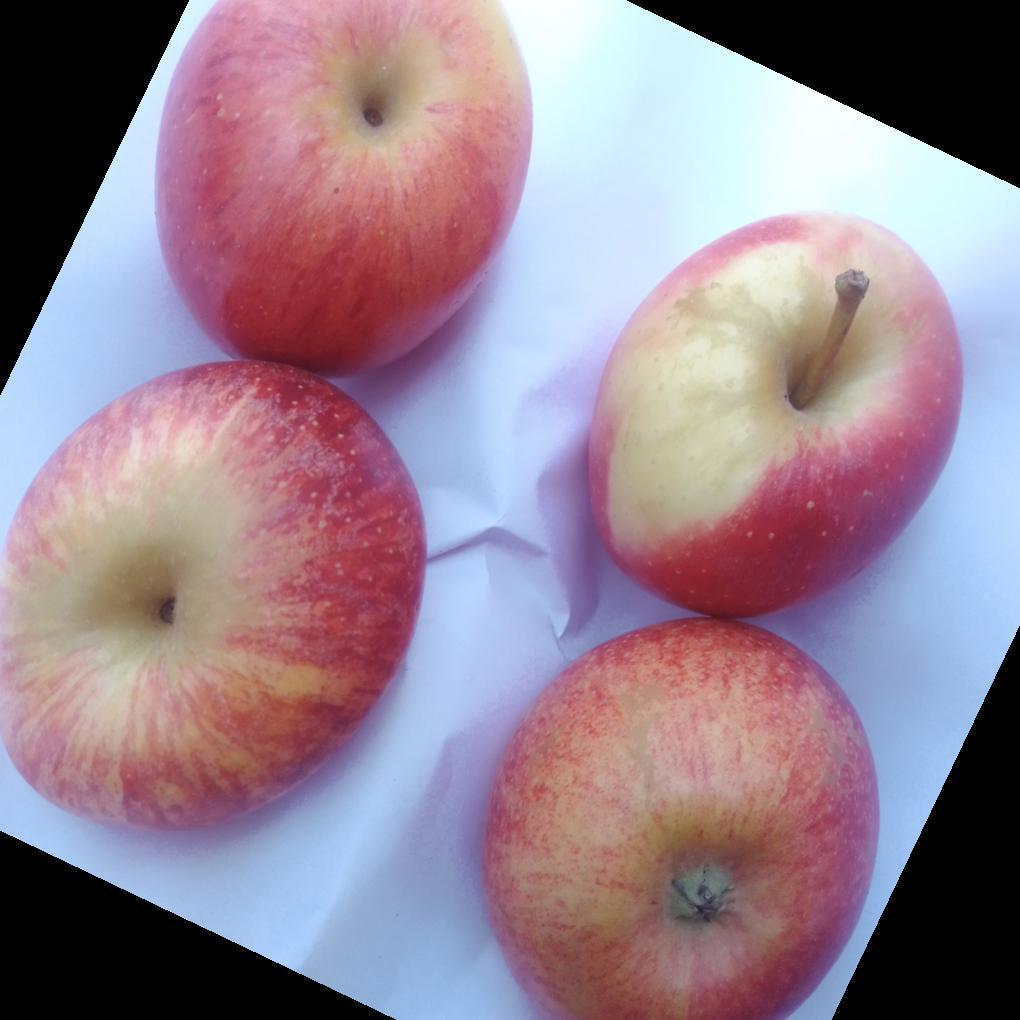FreshGuava: (0, 0, 534, 836), (477, 210, 929, 995)
